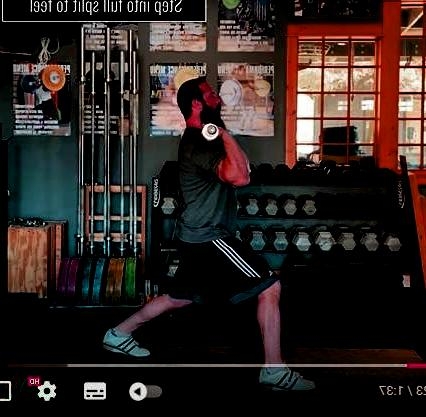Barbell: (204, 124, 216, 137)
